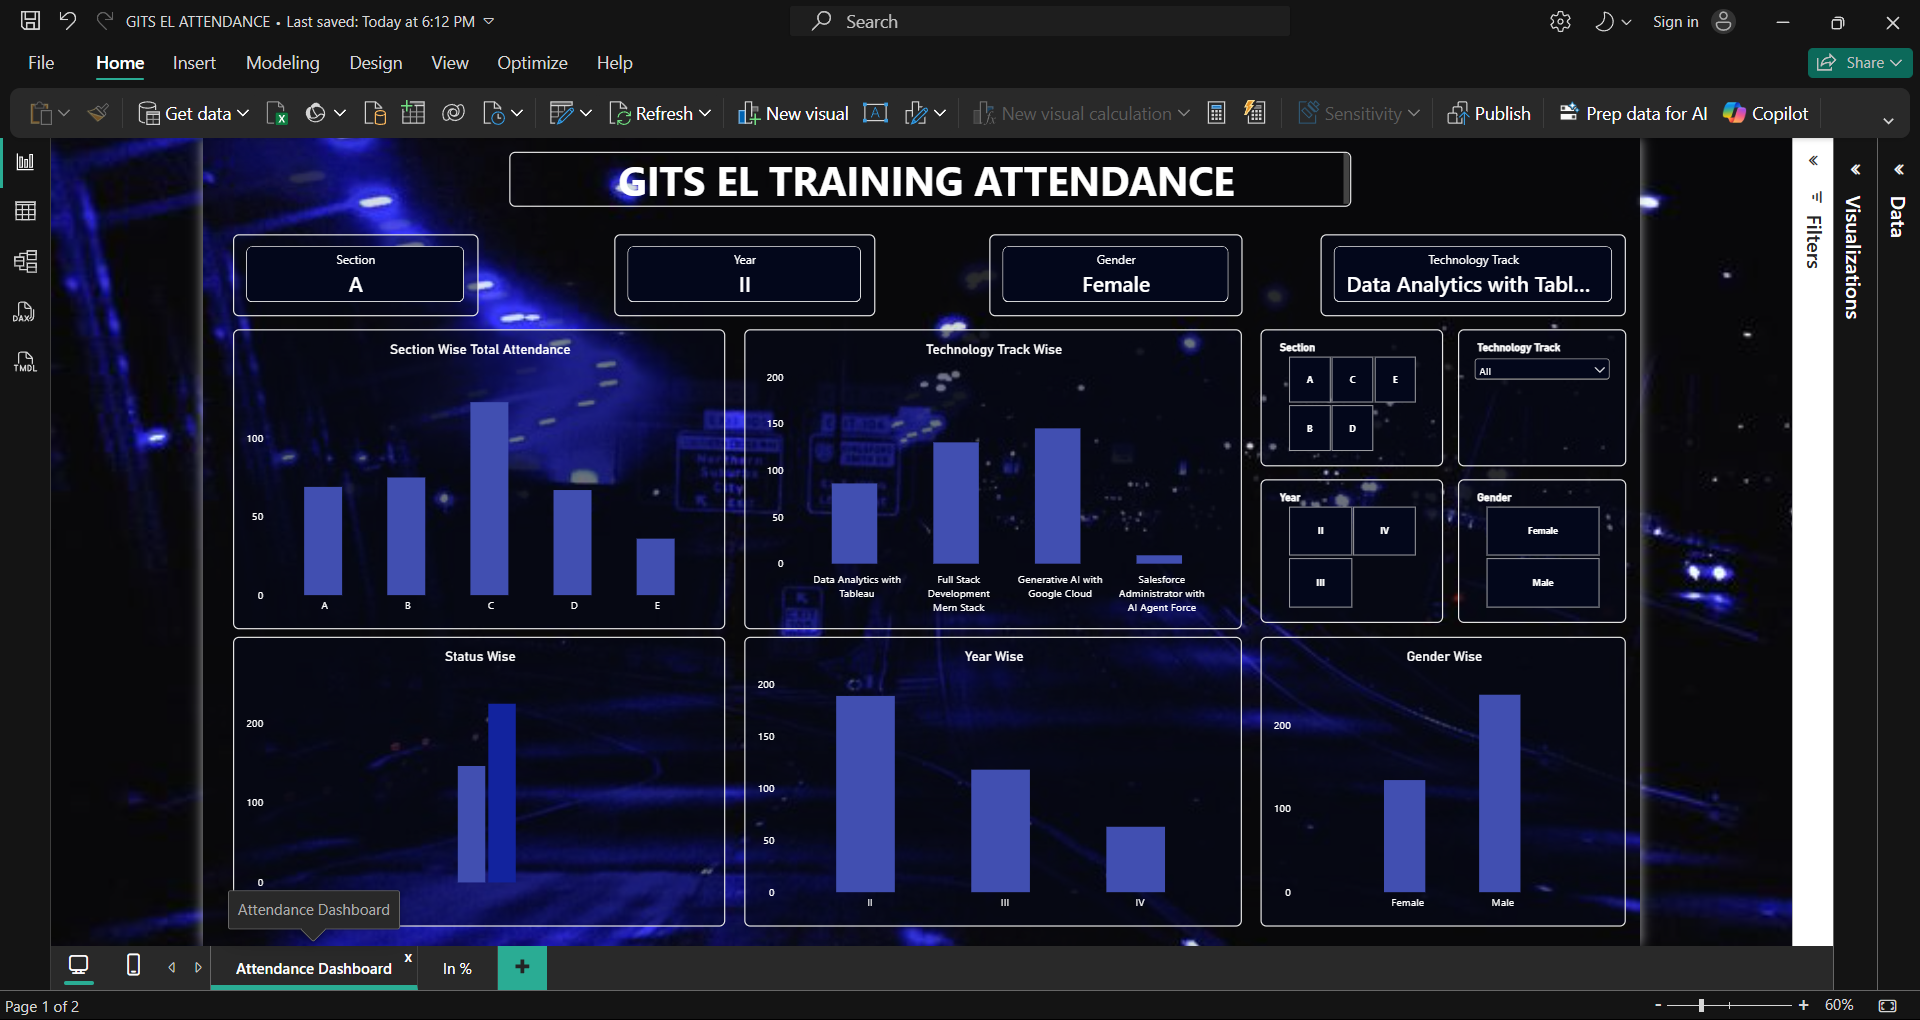

What the dashboard file says about the page in this screenshot:
{"tool":"powerbi","page":{"name":"Attendance Dashboard","canvas":[1920,1080],"ordinal":0},"visuals":[{"type":"cardVisual","fields":{"Data":["Min(Attendance Total Sheet.Section)"]},"box":[40.1,129.1,327.9,109.9],"z":0},{"type":"cardVisual","fields":{"Data":["Min(Attendance Total Sheet.Year)"]},"box":[549.4,129.1,348.8,109.9],"z":1},{"type":"cardVisual","fields":{"Data":["Min(Attendance Total Sheet.Gender)"]},"box":[1050,129.1,338.4,109.9],"z":2},{"type":"cardVisual","fields":{"Data":["Min(Attendance Total Sheet.Technology Track)"]},"box":[1493,129.1,408.1,109.9],"z":3},{"type":"clusteredColumnChart","title":"Section Wise Total Attendance","fields":{"Category":["Attendance Total Sheet.Section"],"Y":["CountNonNull(Attendance Total Sheet.Total in %)"]},"box":[40.1,254.7,657.6,401.2],"z":4},{"type":"clusteredColumnChart","title":"Gender Wise","fields":{"Category":["Attendance Total Sheet.Gender"],"Y":["CountNonNull(Attendance Total Sheet.Total in %)"]},"box":[1412.8,666.3,488.4,387.2],"z":5},{"type":"clusteredColumnChart","title":"Year Wise ","fields":{"Category":["Attendance Total Sheet.Year"],"Y":["CountNonNull(Attendance Total Sheet.Total in %)"]},"box":[723.8,666.3,664.5,387.2],"z":6},{"type":"clusteredColumnChart","title":"Status Wise","fields":{"Series":["Attendance Total Sheet.Status"],"Y":["CountNonNull(Attendance Total Sheet.Total in %)"]},"box":[40.1,666.3,657.6,387.2],"z":7},{"type":"clusteredColumnChart","title":"Technology Track Wise ","fields":{"Category":["Attendance Total Sheet.Technology Track"],"Y":["CountNonNull(Attendance Total Sheet.Total in %)"]},"box":[723.8,254.7,664.5,401.2],"z":8},{"type":"slicer","fields":{"Values":["Attendance Total Sheet.Technology Track"]},"box":[1676.2,254.7,225,183.1],"z":9},{"type":"slicer","fields":{"Values":["Attendance Total Sheet.Section"]},"box":[1412.8,254.7,244.2,183.1],"z":10},{"type":"slicer","fields":{"Values":["Attendance Total Sheet.Year"]},"box":[1412.8,455.2,244.2,191.9],"z":11},{"type":"slicer","fields":{"Values":["Attendance Total Sheet.Gender"]},"box":[1676.2,455.2,225,191.9],"z":12},{"type":"textbox","box":[409.9,19.2,1125,73.3],"z":13}]}

Visuals, with their boxes on the page's 1920x1080 design canvas (x1, y1, x2, y2). These are canvas units, not pixel positions in the 1920x1020 screenshot, which may show the page scaled, cropped or inside an application window:
cardVisual - Min(Attendance Total Sheet.Section): [40, 129, 368, 239]
cardVisual - Min(Attendance Total Sheet.Year): [549, 129, 898, 239]
cardVisual - Min(Attendance Total Sheet.Gender): [1050, 129, 1388, 239]
cardVisual - Min(Attendance Total Sheet.Technology Track): [1493, 129, 1901, 239]
"Section Wise Total Attendance" clusteredColumnChart: [40, 255, 698, 656]
"Gender Wise" clusteredColumnChart: [1413, 666, 1901, 1054]
"Year Wise " clusteredColumnChart: [724, 666, 1388, 1054]
"Status Wise" clusteredColumnChart: [40, 666, 698, 1054]
"Technology Track Wise " clusteredColumnChart: [724, 255, 1388, 656]
slicer - Attendance Total Sheet.Technology Track: [1676, 255, 1901, 438]
slicer - Attendance Total Sheet.Section: [1413, 255, 1657, 438]
slicer - Attendance Total Sheet.Year: [1413, 455, 1657, 647]
slicer - Attendance Total Sheet.Gender: [1676, 455, 1901, 647]
textbox: [410, 19, 1535, 92]
